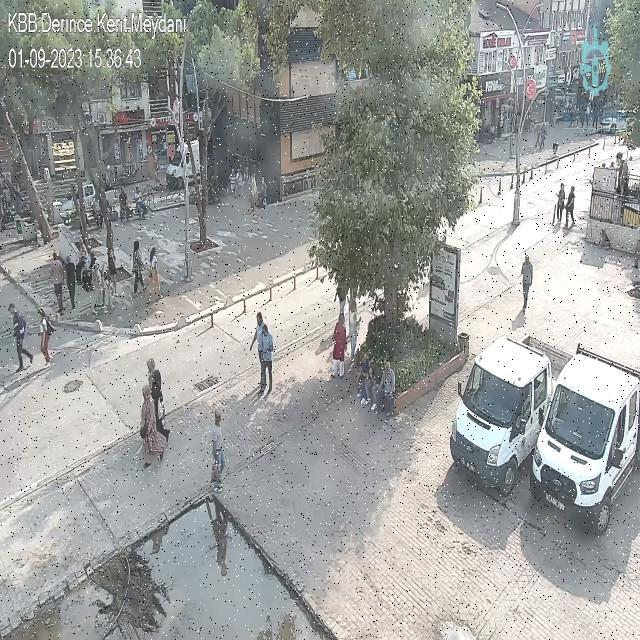Truck: (528, 348, 639, 526), (450, 330, 563, 491)
